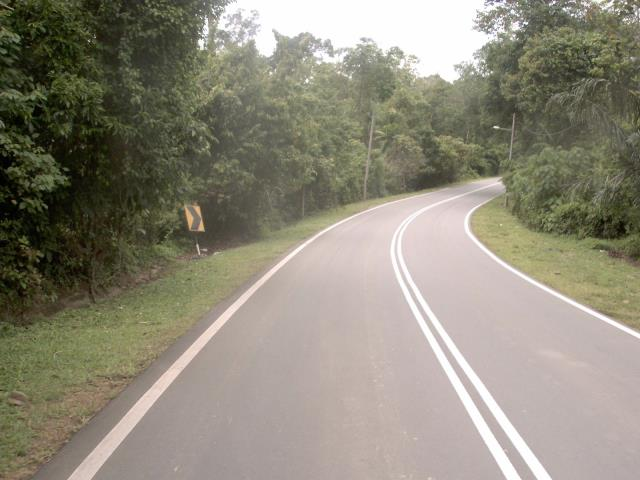traffic_sign: (178, 196, 211, 238)
